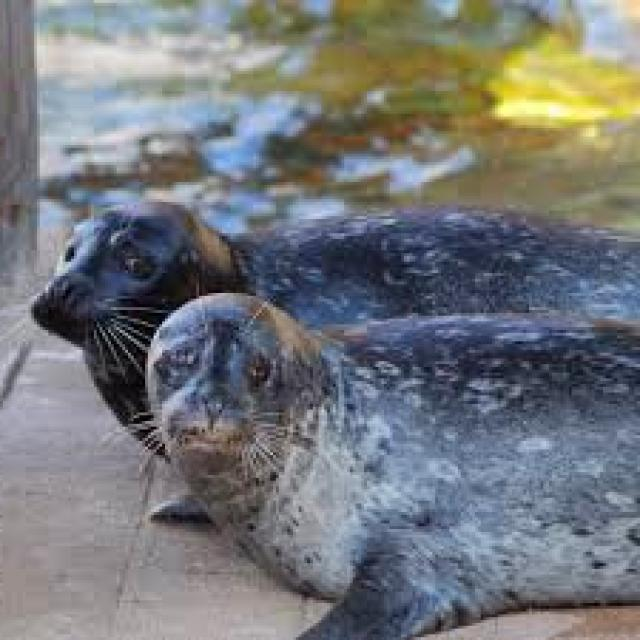seal: (148, 293, 640, 637), (34, 202, 640, 452)
